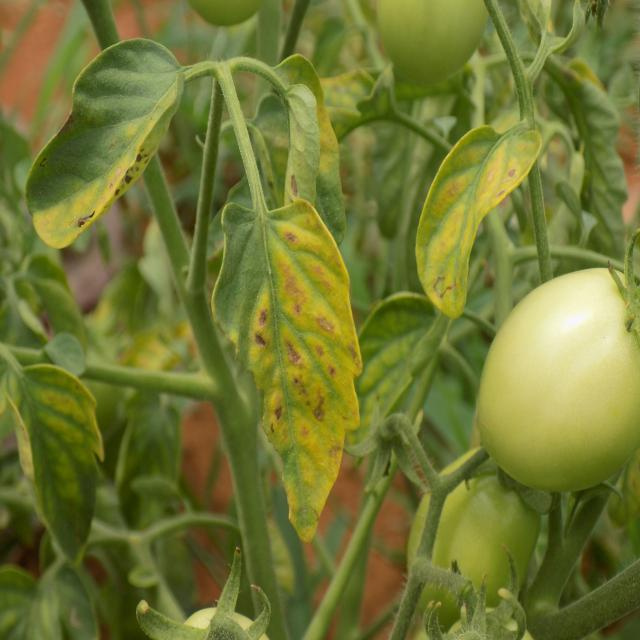tomato_early blight: (213, 194, 355, 536), (21, 33, 189, 250), (408, 123, 540, 309)
